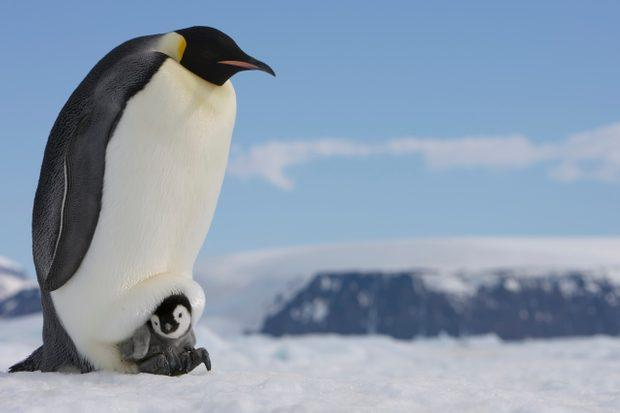emporer: (19, 16, 277, 389)
